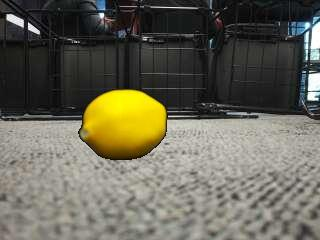lemon: (83, 91, 168, 160)
